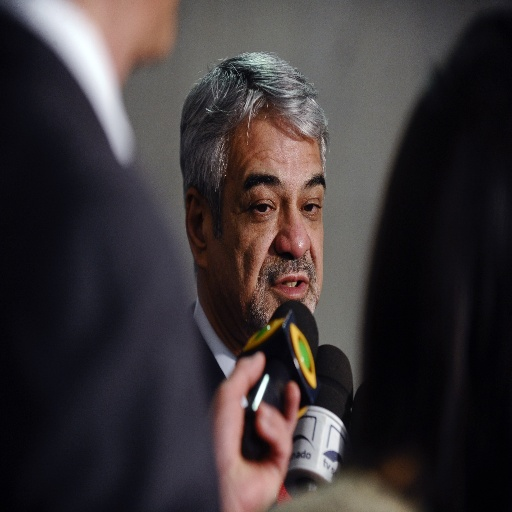hand: (209, 353, 297, 511)
